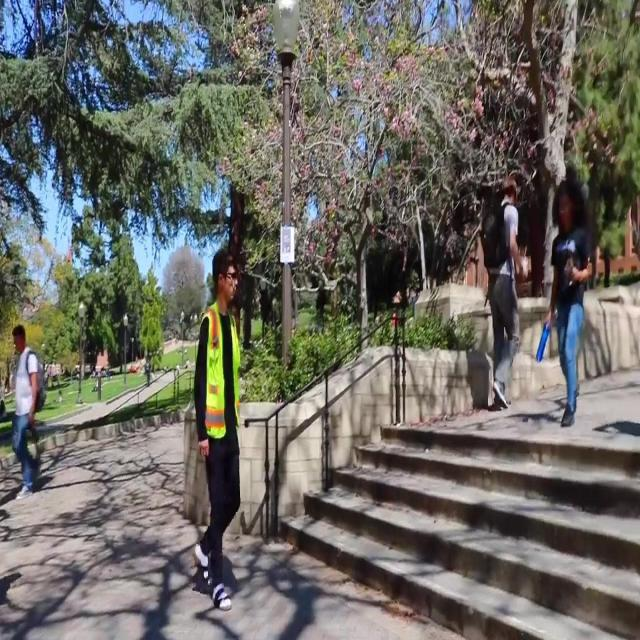Vest: (199, 300, 241, 440)
